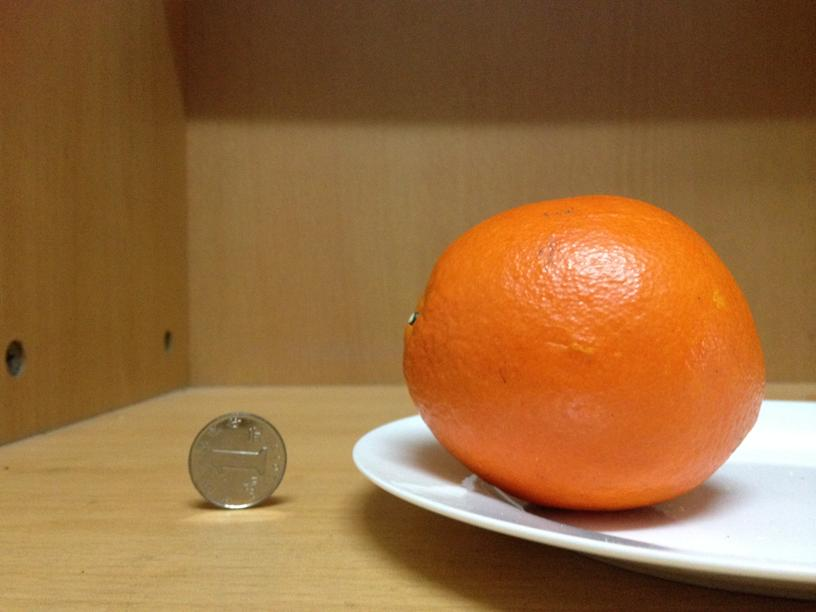coin: (185, 412, 285, 511)
orange: (400, 192, 764, 510)
